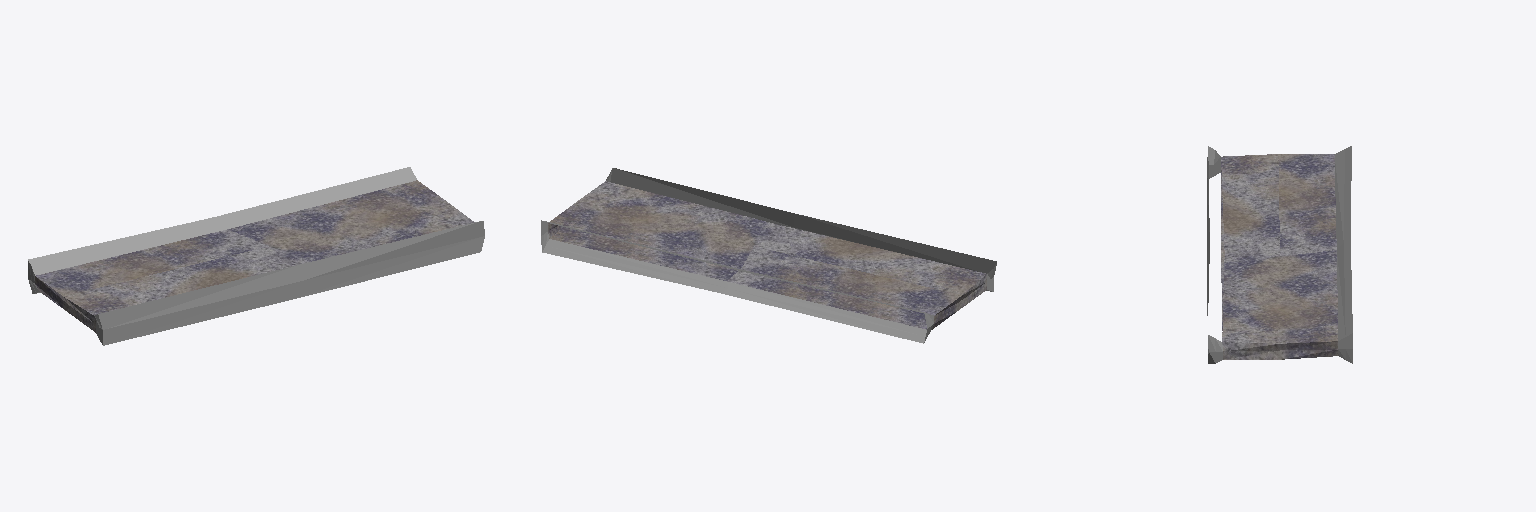
The picture shows the model from 3 angles: view 1: azimuth 30°, elevation 25°; view 2: azimuth 150°, elevation 25°; view 3: azimuth 270°, elevation 25°; orthographic projection.
Parts seen in each view (by area): view 1: Cube; view 2: Cube; view 3: Cube.
Boxes of the visible parts, <box> form: Cube: <box>28,167,484,345</box>; Cube: <box>541,168,996,343</box>; Cube: <box>1207,146,1352,363</box>.
Size of the model in its own units: 3.19 by 0.2666 by 1.04.
Materials: 2 (1 with a texture image).